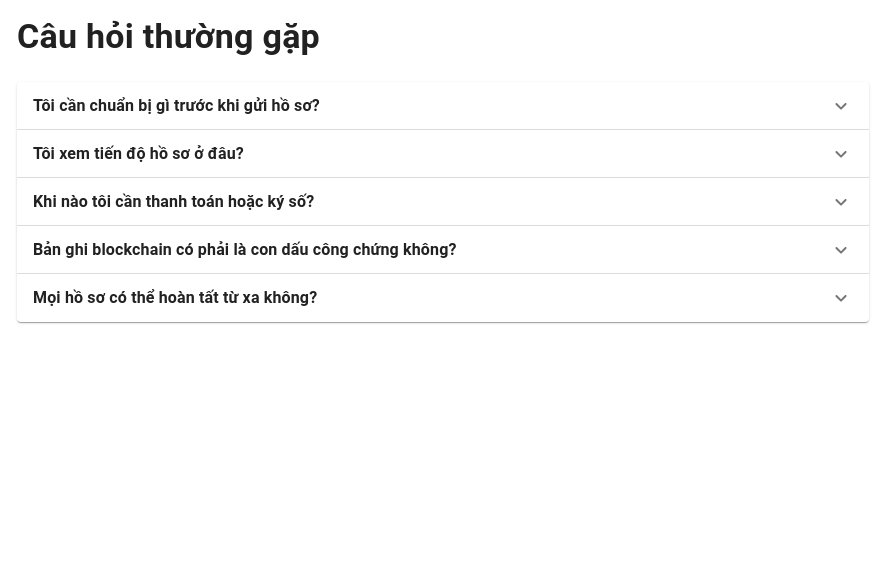
public FAQ exposes five named, independently expandable answers
Expected: the heading "Câu hỏi thường gặp" is shown, [17, 16, 320, 56]
Click the button "Tôi cần chuẩn bị gì trước khi gửi hồ sơ?": (176, 105) [17, 82, 869, 130]
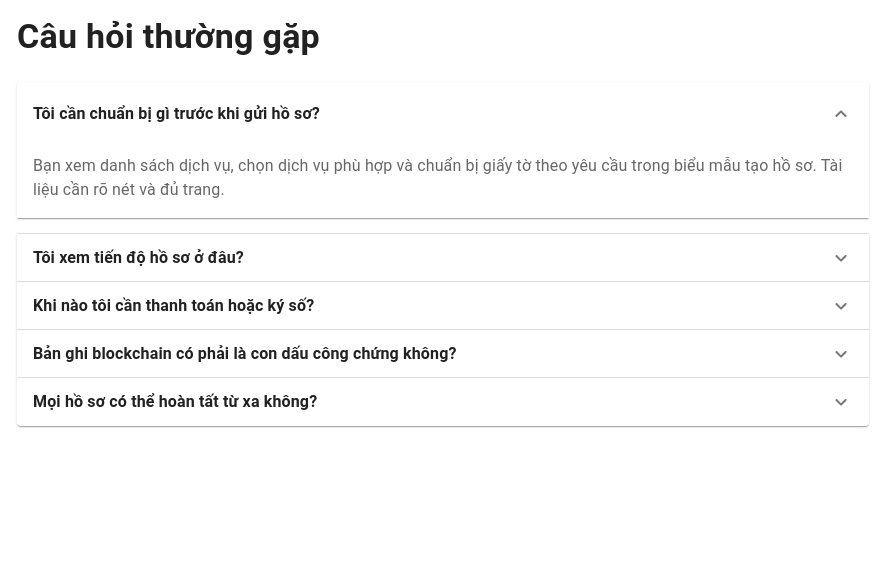
Result: the button "Tôi cần chuẩn bị gì trước khi gửi hồ sơ?" is expanded at [17, 82, 869, 146]
Result: the text "Tài liệu cần rõ nét và đủ trang" is shown at [33, 156, 842, 199]
Click the button "Bản ghi blockchain có phải là con dấu công chứng không?": (443, 354) [17, 330, 869, 378]
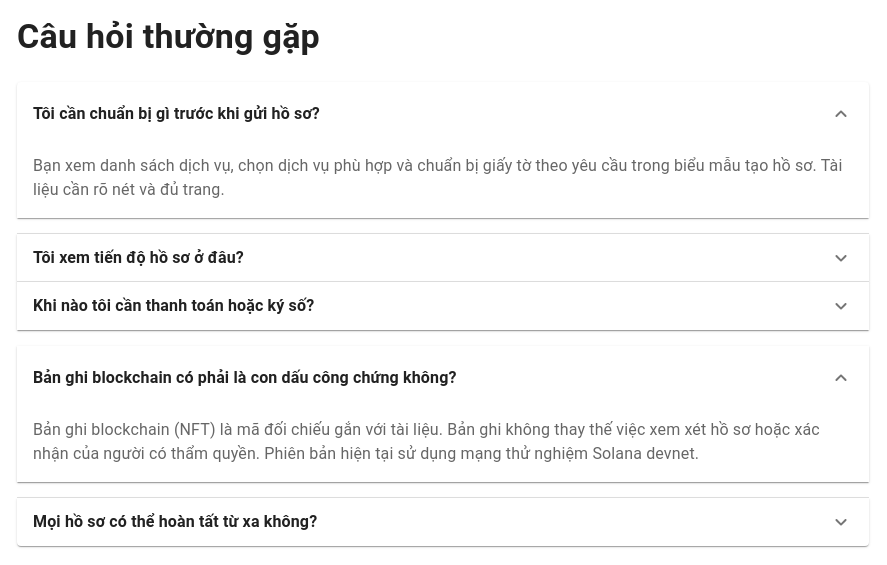
Result: the button "Bản ghi blockchain có phải là con dấu công chứng không?" is expanded at [17, 346, 869, 410]
Result: the text "không thay thế việc xem xét hồ sơ" is shown at [33, 420, 820, 463]
Click the button "Tôi cần chuẩn bị gì trước khi gửi hồ sơ?": (176, 113) [17, 82, 869, 146]
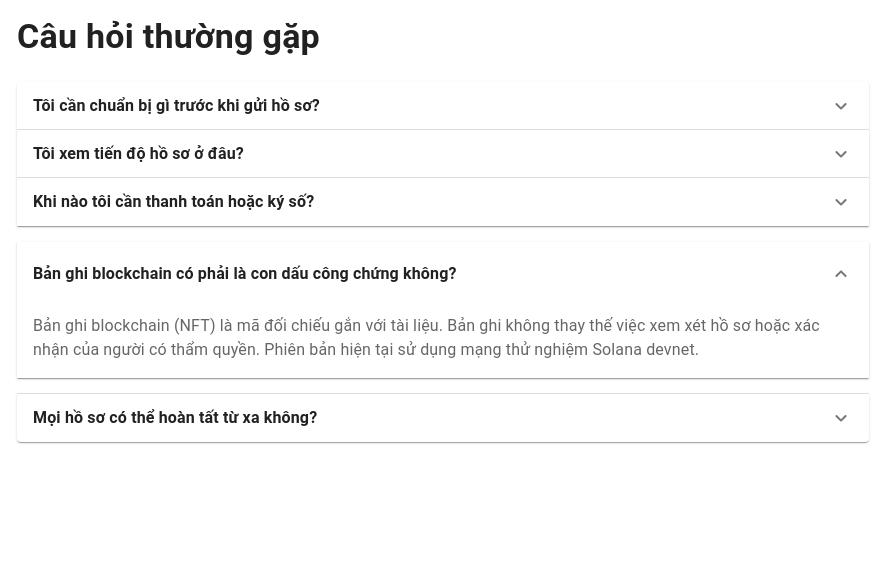
Result: the button "Bản ghi blockchain có phải là con dấu công chứng không?" is expanded at [17, 242, 869, 306]
Result: the button "Tôi cần chuẩn bị gì trước khi gửi hồ sơ?" is collapsed at [17, 82, 869, 130]
